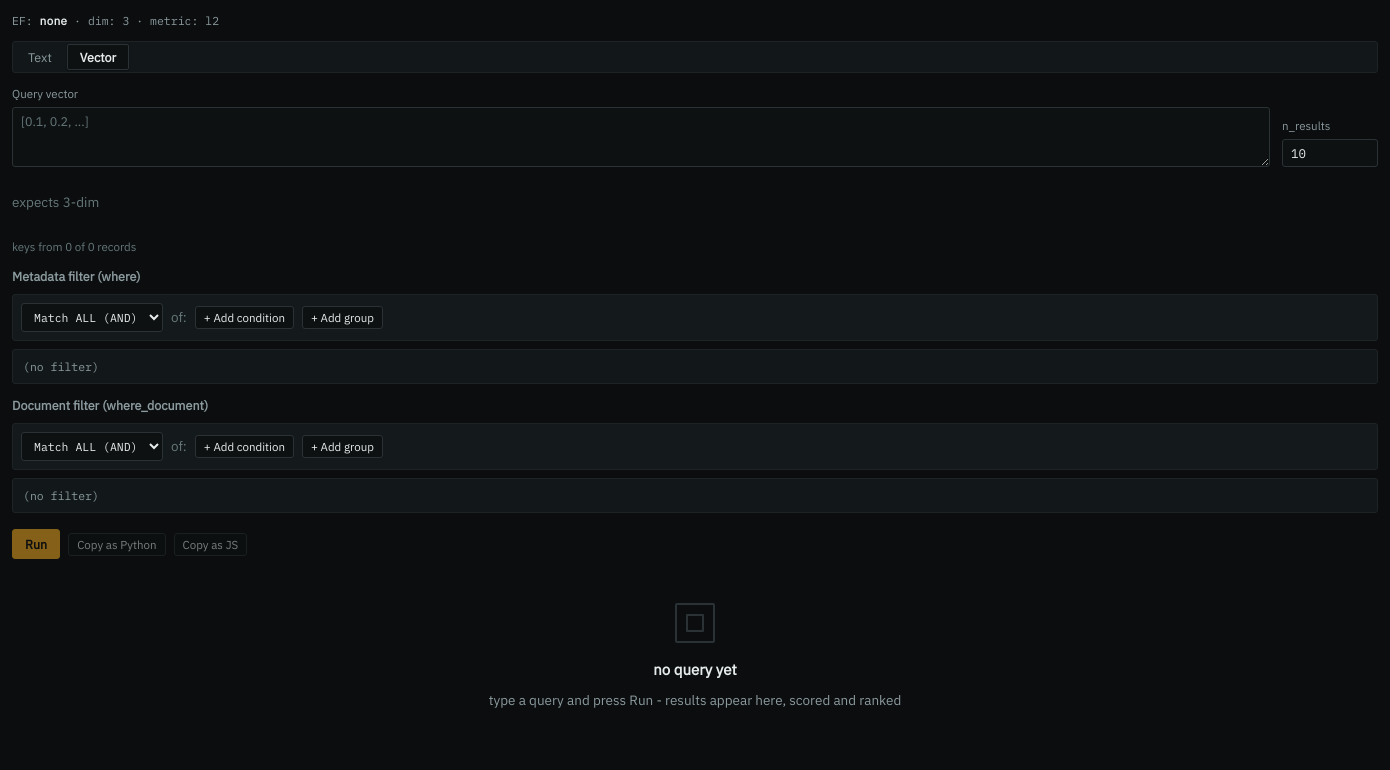
Test: blocks Run and shows a banner for text on a none-EF collection
The image size is (1390, 770).
Expected: the text "EF: none · dim: 3 · metric: l2" is shown, [12,13,219,28]
Click the tab "Text" at (40, 57), box [15,44,65,70]
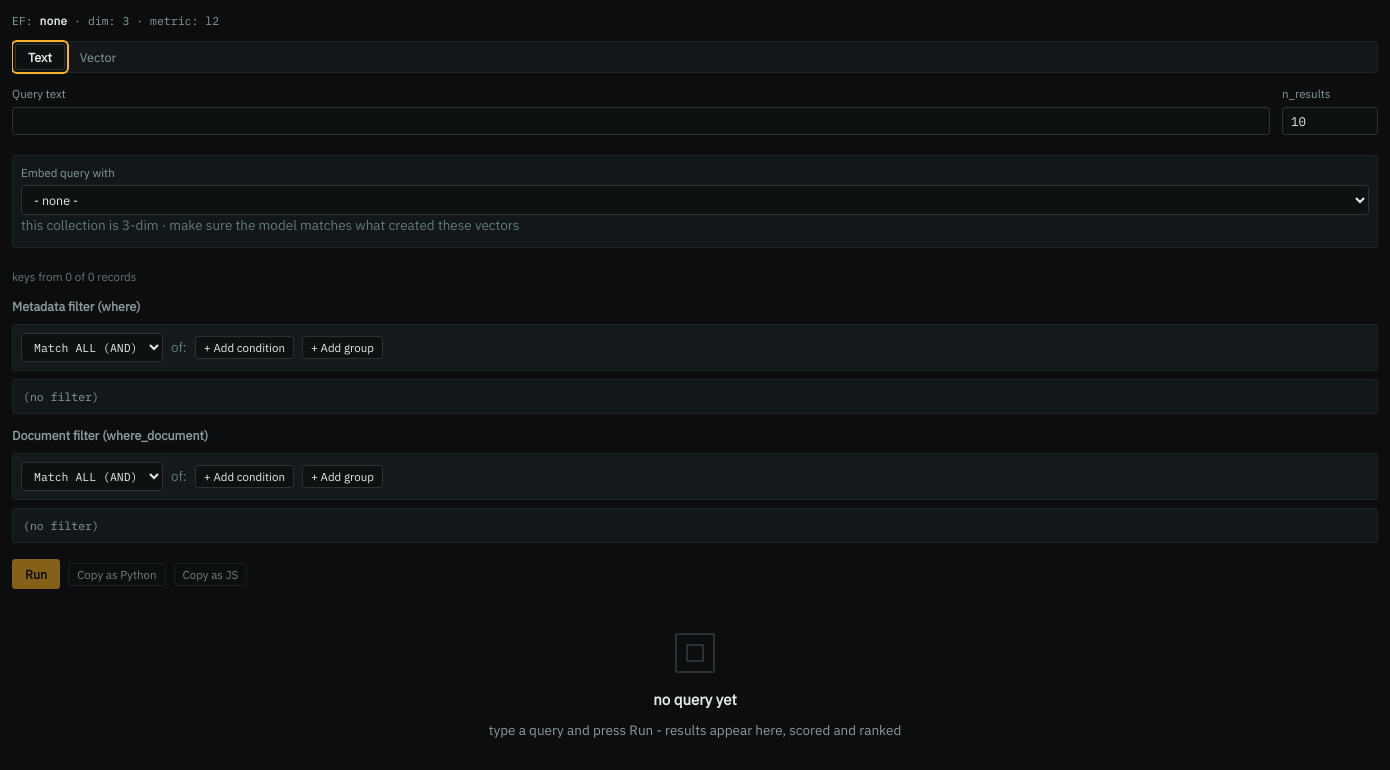
Type "hello" into the field labelled "Query text" at (641, 120), box [12,106,1270,134]
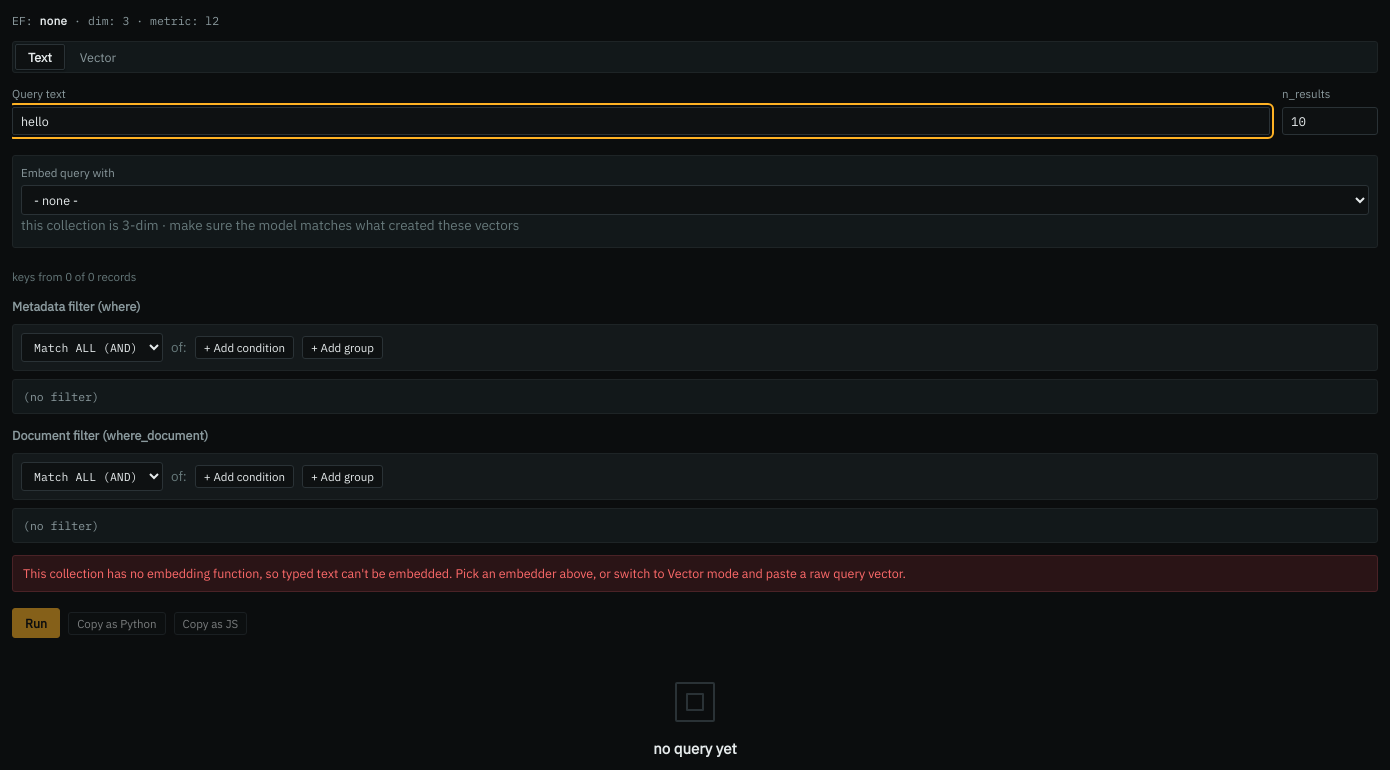
Expected: the button "Run" is disabled, [12,608,60,638]
Now the message shows "no embedding function", box [23,565,906,581]
